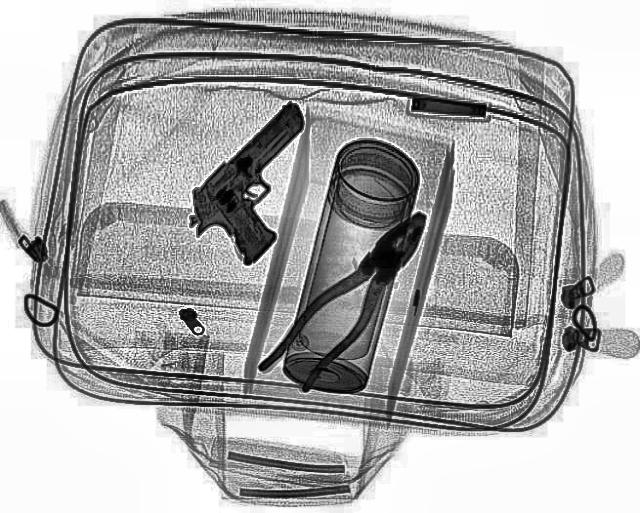Gun: (162, 99, 370, 265)
Pliers: (251, 198, 449, 396)
